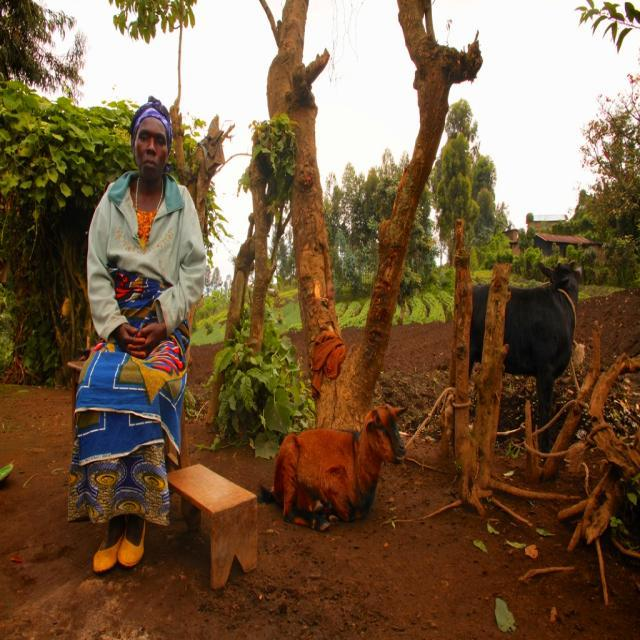Goat: (467, 258, 582, 459), (258, 401, 408, 531)
